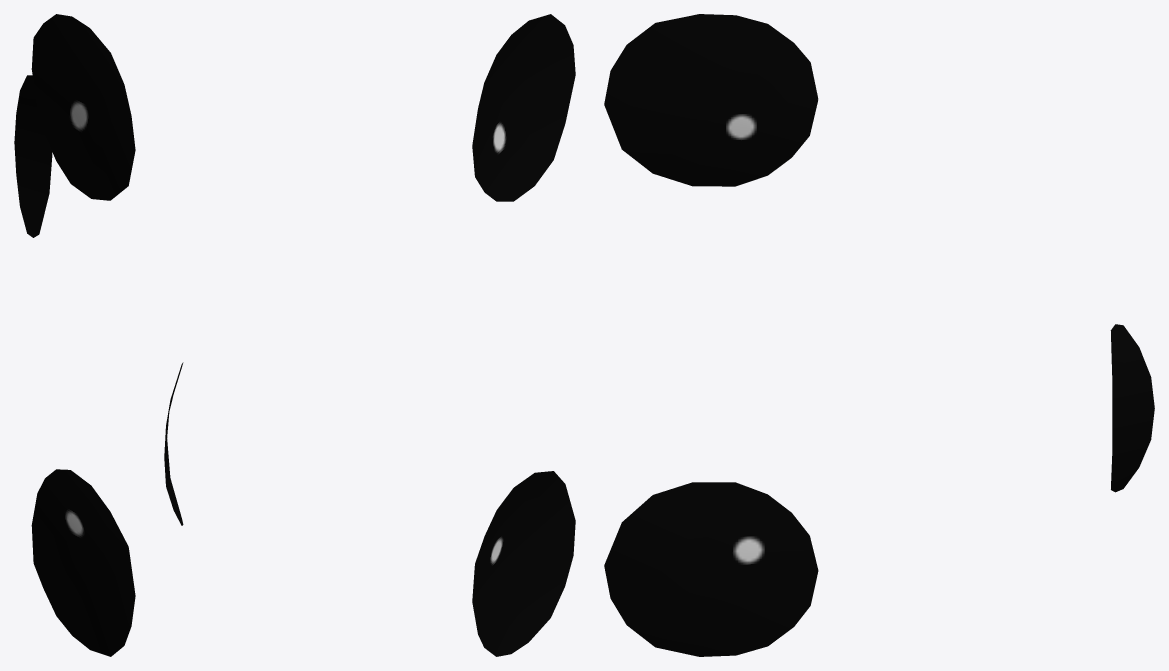
Rendered from HeadPitch_1.obj.
3 renders of one model, left to right at view 1: azimuth 30°, elevation 25°; view 2: azimuth 150°, elevation 25°; view 3: azimuth 270°, elevation 25°, orthographic. The views are drawn at different scales.
Size of the model in its own units: 0.0273 by 0.0985 by 0.0765.
1 material, 1 textured.
